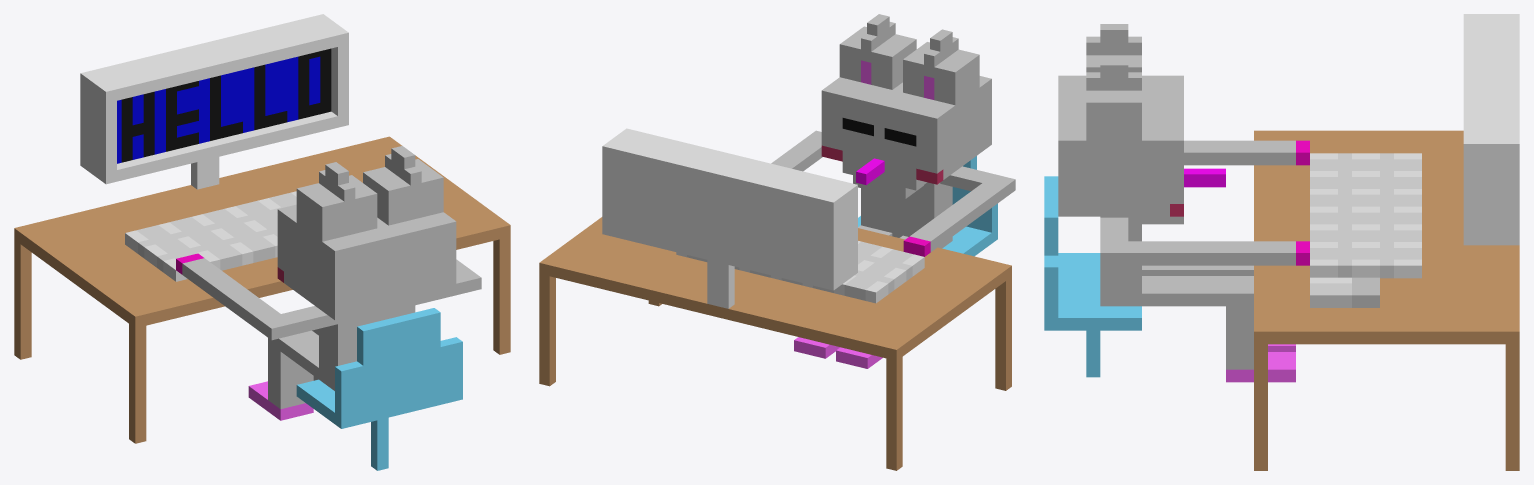
The model's file is usausa.glb.
3 views of the same model, side by side, from view 1: azimuth 30°, elevation 25°; view 2: azimuth 150°, elevation 25°; view 3: azimuth 270°, elevation 25° (orthographic). The views are drawn at different scales.
Visible parts, largest first — view 1: Untitled; view 2: Untitled; view 3: Untitled.
Part boxes in pixels (<box>): Untitled: <box>14,14,510,470</box>; Untitled: <box>539,14,1015,470</box>; Untitled: <box>1044,14,1519,470</box>.
Size of the model in its own units: 3.4 by 2.6 by 3.4.
Materials: 1 (1 with a texture image).
